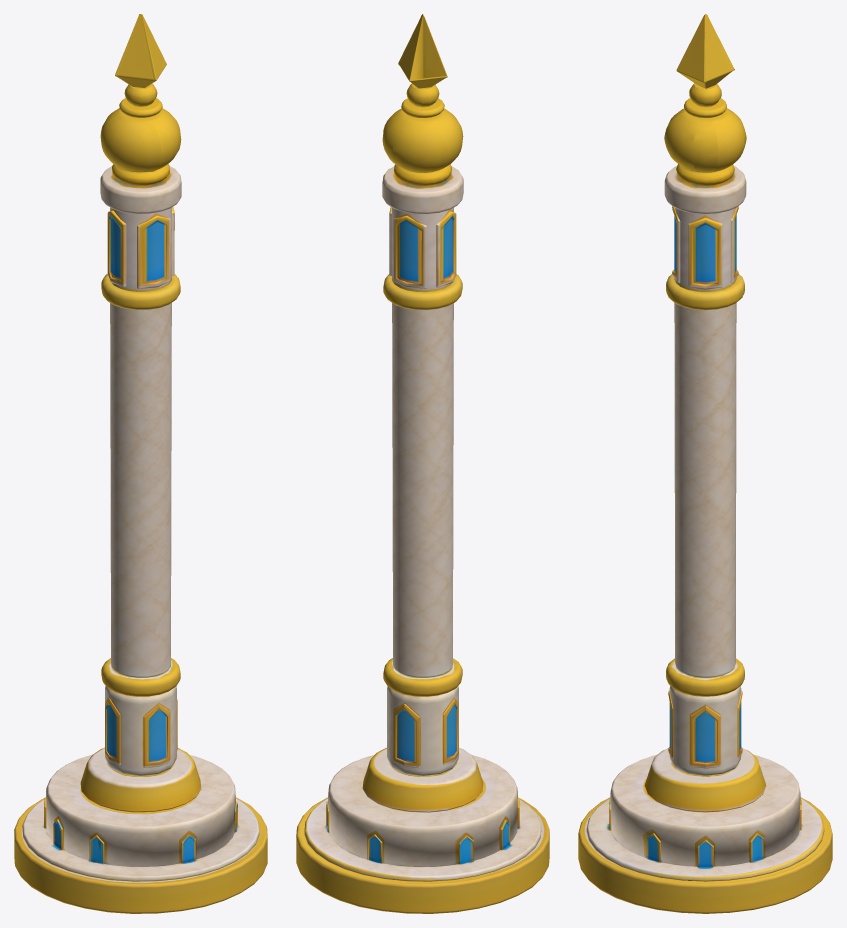
File: HaloFlagpole_2_SM_tex4k_pbr_src.fbx
3 views of the same model, side by side, from view 1: azimuth 30°, elevation 25°; view 2: azimuth 150°, elevation 25°; view 3: azimuth 270°, elevation 25° (orthographic).
Parts seen in each view (by area): view 1: f414065f_1ea8_4618_b1a7_1b026e363a51; view 2: f414065f_1ea8_4618_b1a7_1b026e363a51; view 3: f414065f_1ea8_4618_b1a7_1b026e363a51.
Boxes of the visible parts, box(x1,y1,x2,y2) form: f414065f_1ea8_4618_b1a7_1b026e363a51: box(14, 14, 267, 913); f414065f_1ea8_4618_b1a7_1b026e363a51: box(296, 14, 549, 913); f414065f_1ea8_4618_b1a7_1b026e363a51: box(578, 14, 832, 913).
Bounding box in the file's own units: 0.272 × 0.9995 × 0.272.
Materials: 1 (1 with a texture image).
